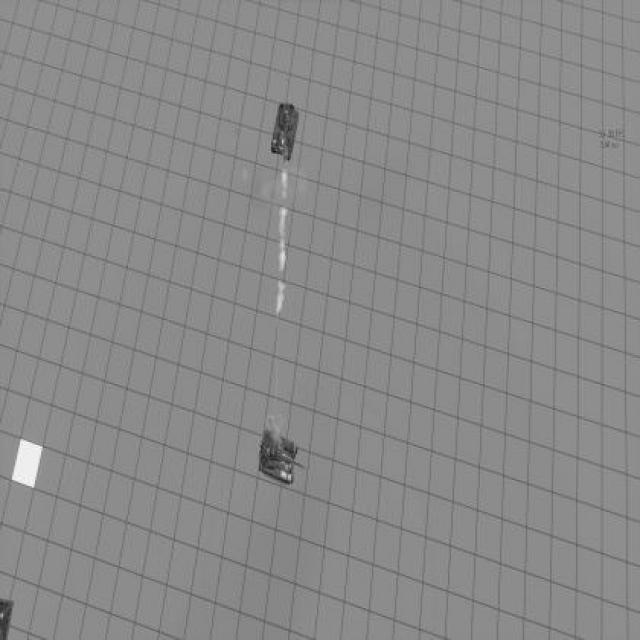tank: (259, 428, 306, 485), (270, 102, 300, 163)
